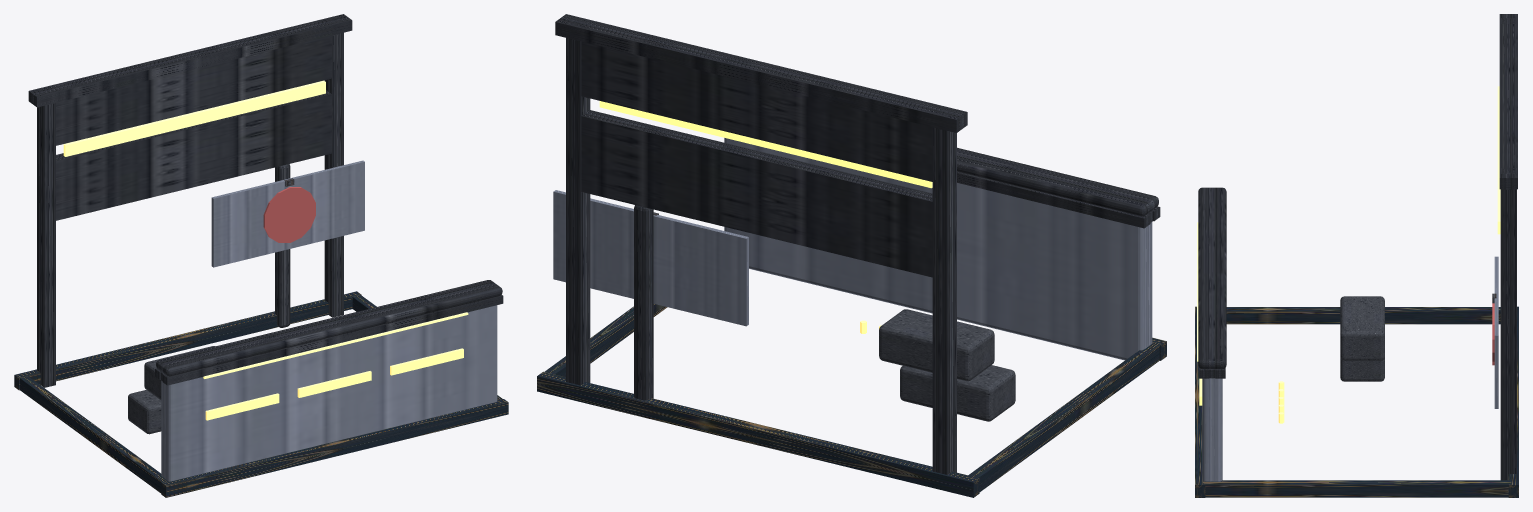
File: armory_targetlane.glb
The picture shows the model from 3 angles, left to right: view 1: azimuth 30°, elevation 25°; view 2: azimuth 150°, elevation 25°; view 3: azimuth 270°, elevation 25°; orthographic projection. The views are drawn at different scales.
Visible parts, largest first — view 1: sight_shell, barrier, paper, capping, shelltoe0, shelltoe2, sightglow, shellrim0, shelltoes0, ring0, post, sandbag0 (+6 smaller); view 2: sight_shell, barrier, paper, shelltoe2, capping, shelltoes0, sandbag1, post, sandbag0, sightglow, shellrim2, shelltoes2; view 3: sight_shell, shelltoes2, capping, shelltoes0, sandbag1, barrier, shelltoe0, sandbag0, paper, shelltoe2, sightglow.
Boxes of the visible parts, x1,y1,x2,y2 form: sight_shell: [28, 14, 352, 387]; barrier: [161, 305, 497, 481]; paper: [211, 160, 364, 267]; capping: [156, 280, 502, 376]; shelltoe0: [161, 399, 508, 497]; shelltoe2: [14, 291, 361, 390]; sightglow: [63, 80, 325, 156]; shellrim0: [162, 294, 503, 385]; shelltoes0: [20, 376, 169, 493]; ring0: [263, 187, 315, 242]; post: [275, 164, 290, 327]; sandbag0: [128, 390, 161, 434]; sight_shell: [555, 14, 967, 474]; barrier: [724, 138, 1152, 360]; paper: [553, 190, 748, 326]; shelltoe2: [537, 371, 979, 497]; capping: [957, 147, 1158, 216]; shelltoes0: [967, 342, 1160, 491]; sandbag1: [879, 309, 994, 381]; post: [634, 205, 653, 400]; sandbag0: [900, 365, 1015, 421]; sightglow: [599, 101, 932, 188]; shellrim2: [957, 171, 1150, 228]; shelltoes2: [544, 304, 667, 376]; sight_shell: [1499, 14, 1517, 480]; shelltoes2: [1202, 480, 1511, 497]; capping: [1198, 187, 1226, 368]; shelltoes0: [1226, 307, 1500, 324]; sandbag1: [1340, 296, 1384, 360]; barrier: [1202, 378, 1222, 481]; shelltoe0: [1195, 306, 1205, 497]; sandbag0: [1340, 357, 1384, 381]; paper: [1494, 256, 1498, 408]; shelltoe2: [1508, 306, 1518, 497]; sightglow: [1497, 86, 1500, 234].
Size of the model in its own units: 2.08 by 1.7 by 1.59.
10 materials, 7 textured.
